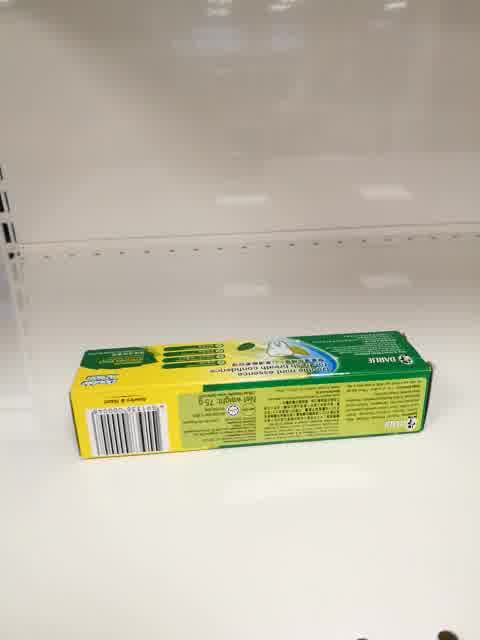toothpaste: (66, 329, 437, 461)
